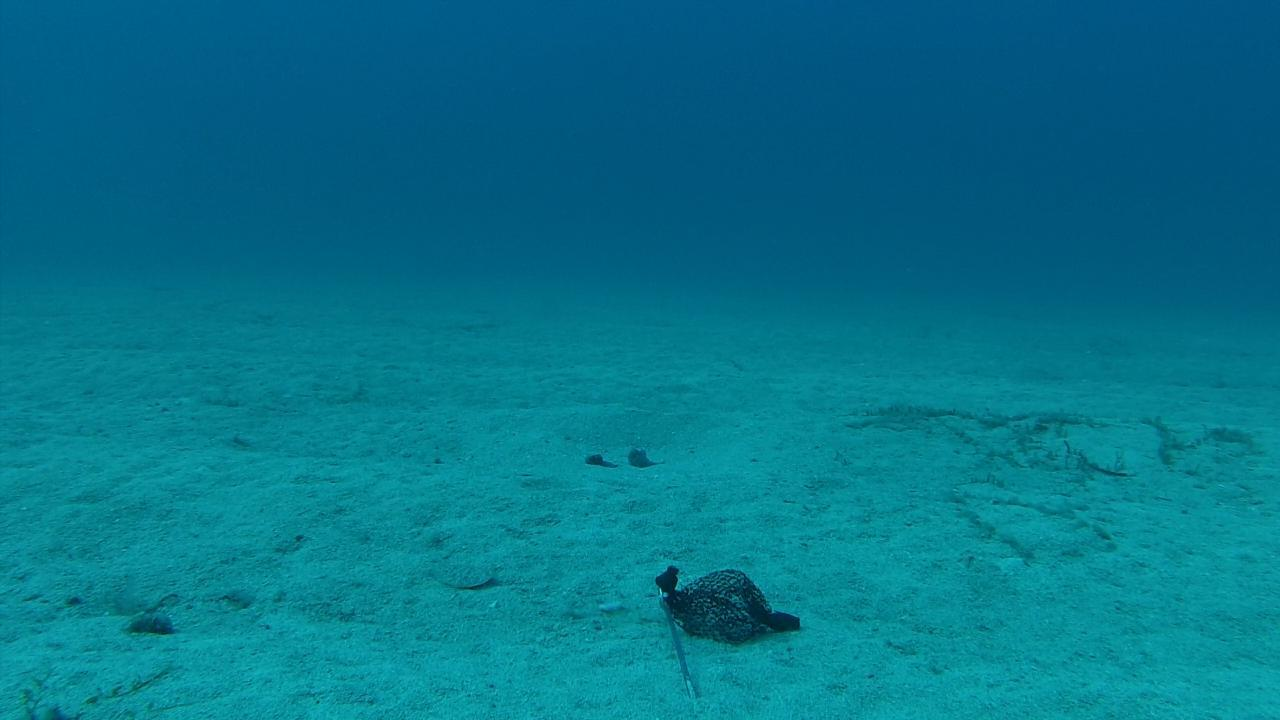bothus: (80, 442, 134, 480), (429, 562, 499, 591)
